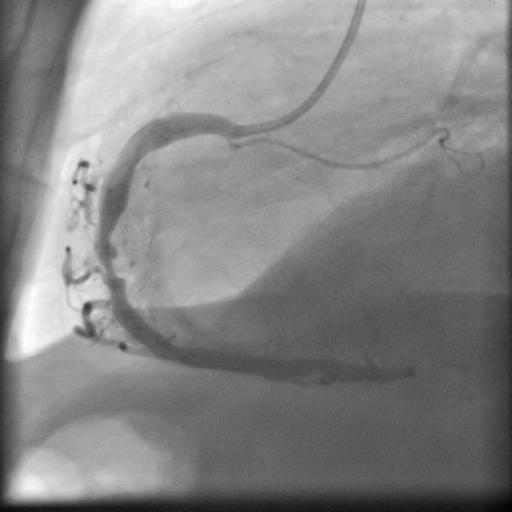Stenosis: (94, 241, 125, 286)
